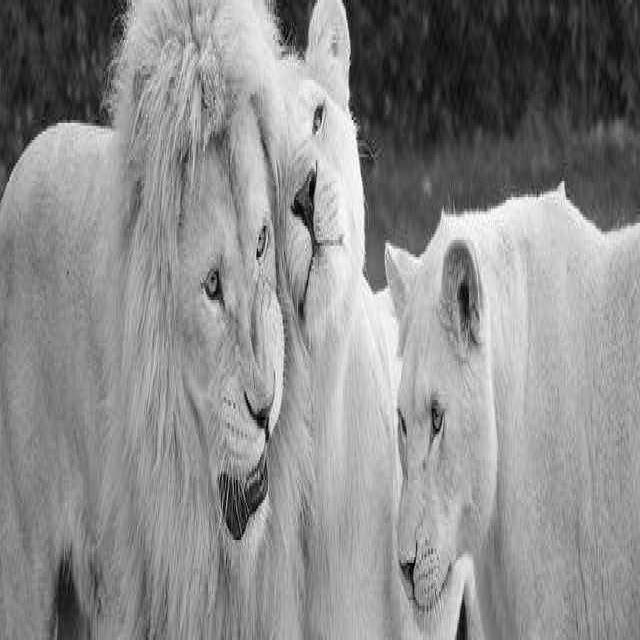Lion: (118, 14, 351, 603), (371, 160, 514, 606)
